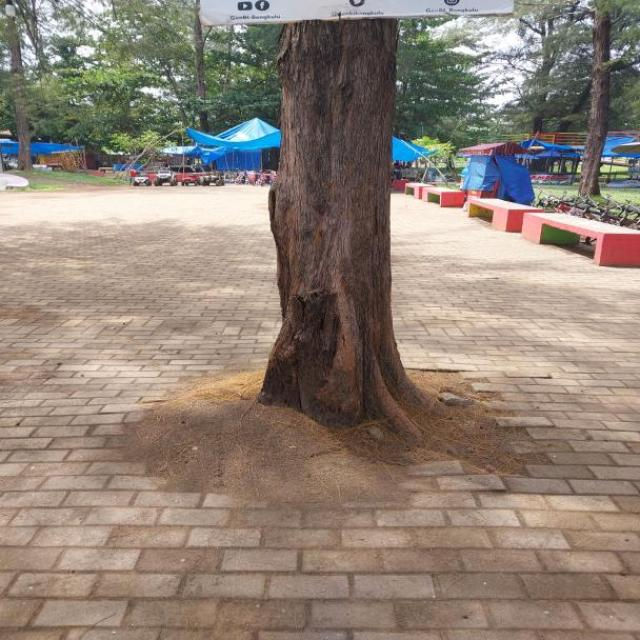tree ahead at: (269, 1, 421, 431)
